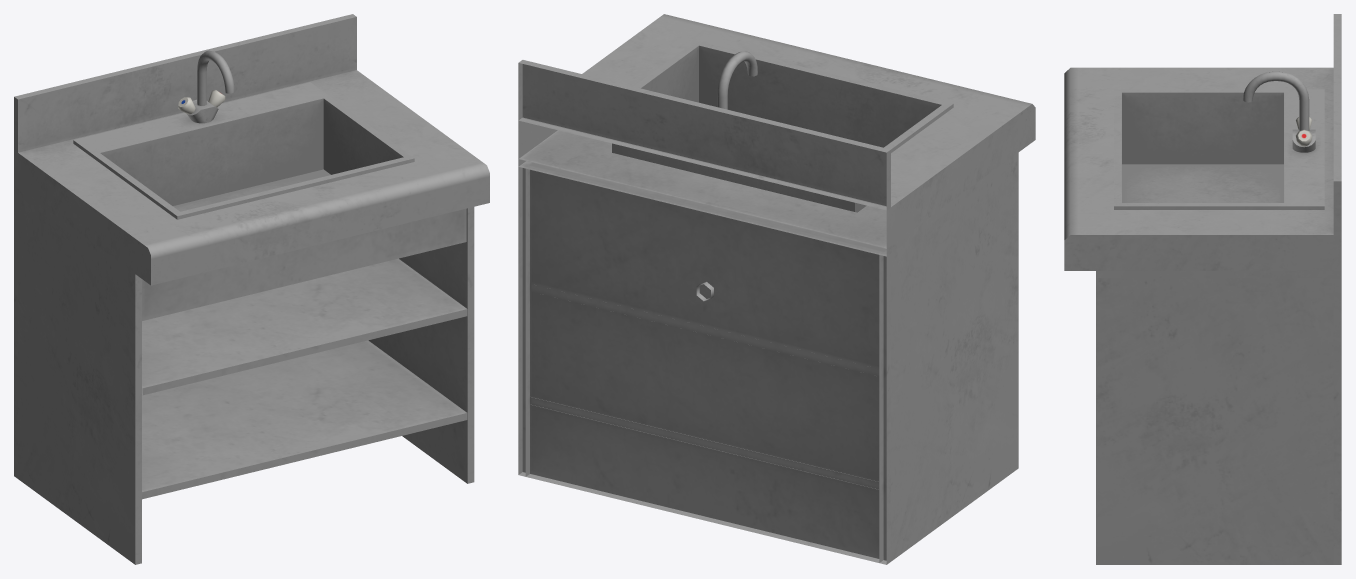
Rendered from KitchenCabinet_B.FBX.
3 renders of one model, left to right at view 1: azimuth 30°, elevation 25°; view 2: azimuth 150°, elevation 25°; view 3: azimuth 270°, elevation 25°, orthographic. The views are drawn at different scales.
Visible parts, largest first — view 1: KitchenCabinet_B; view 2: KitchenCabinet_B; view 3: KitchenCabinet_B.
Boxes of the visible parts, <box> form: KitchenCabinet_B: <box>14,14,489,564</box>; KitchenCabinet_B: <box>518,14,1035,564</box>; KitchenCabinet_B: <box>1064,14,1341,564</box>.
Size of the model in its own units: 100 by 114 by 70.
